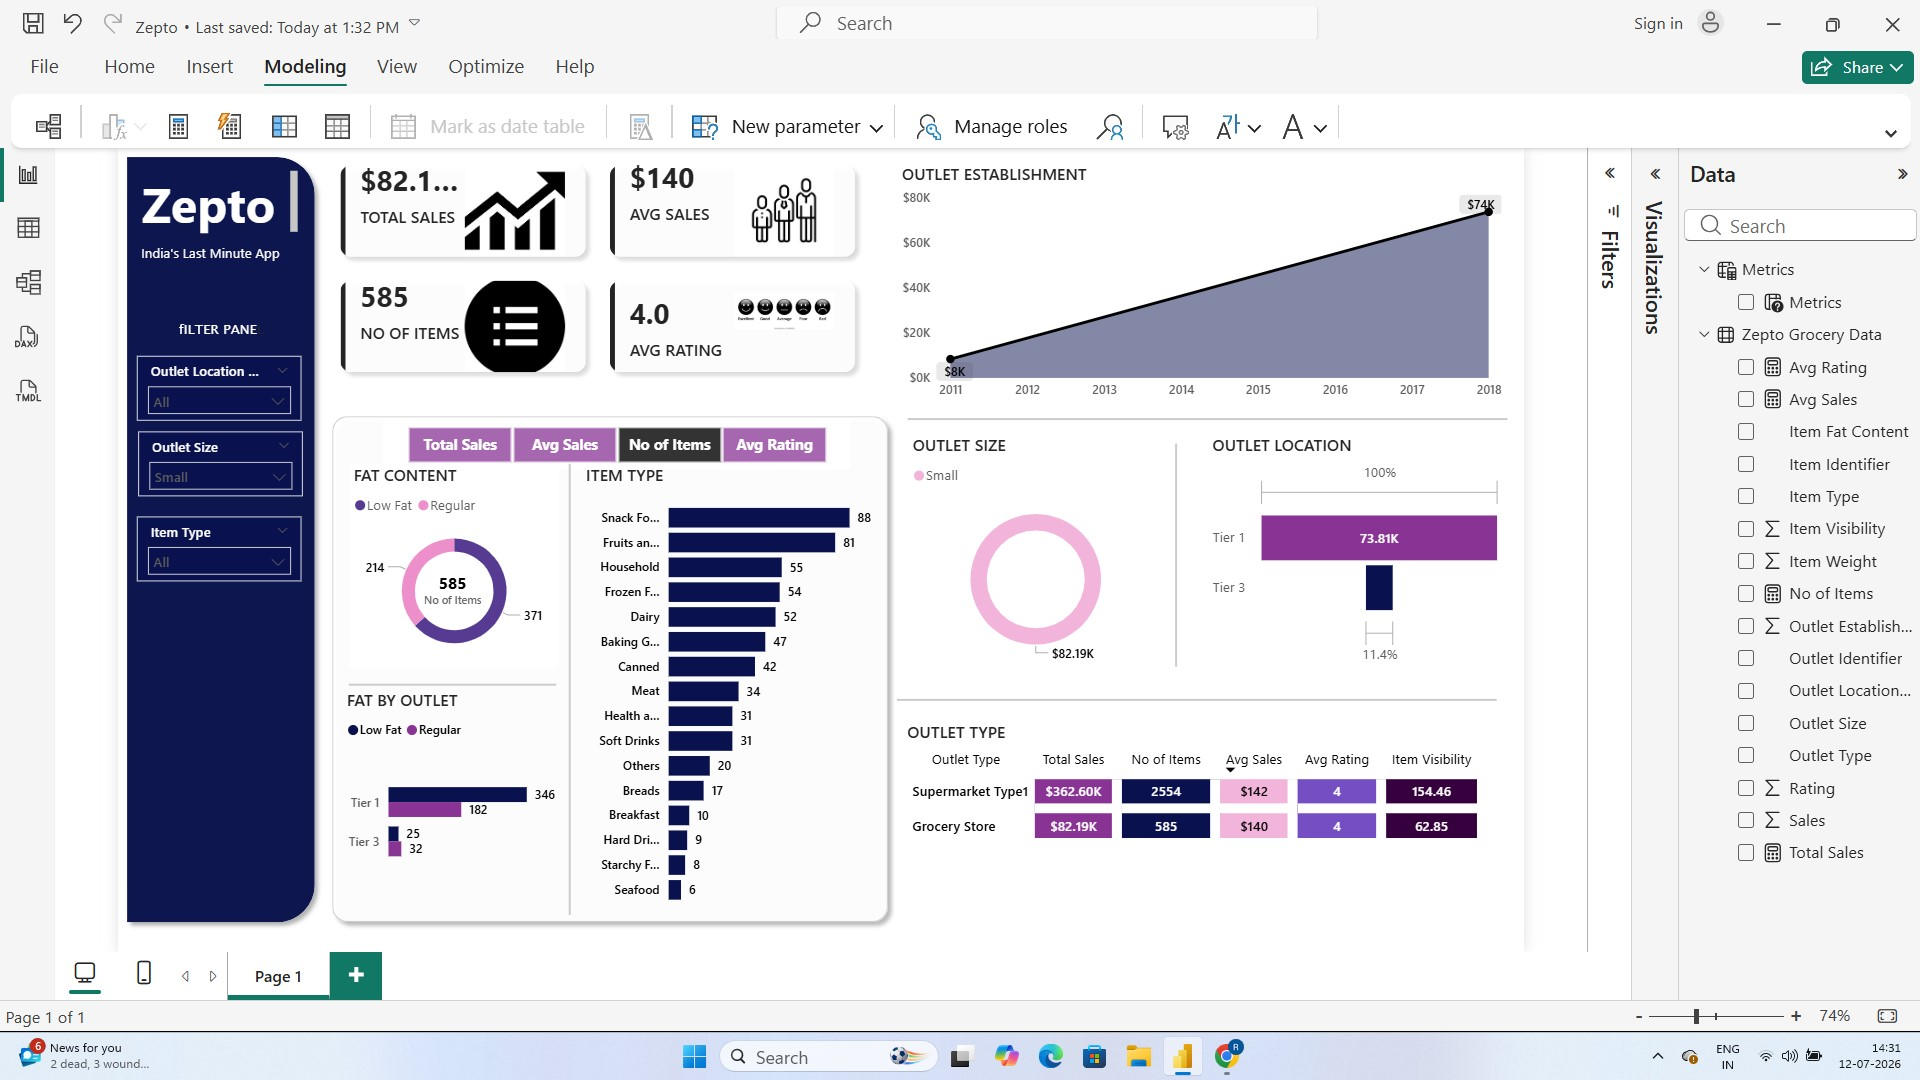

Layout of this report page (visuals, bound fields, positions):
{"tool":"powerbi","page":{"name":"Page 1","canvas":[1400,800],"ordinal":0},"visuals":[{"type":"shape","box":[0,0,204.7,779.5],"z":0},{"type":"textbox","box":[18.9,17.3,165.4,72.4],"z":1000},{"type":"textbox","box":[0,89.8,184.3,34.6],"z":2000},{"type":"cardVisual","fields":{"Data":["Zepto Grocery Data.Total Sales","Zepto Grocery Data.Avg Sales","Zepto Grocery Data.No of Items","Zepto Grocery Data.Avg Rating"]},"box":[204.7,0,546.5,240.9],"z":3000},{"type":"shape","box":[217.3,258.3,557.5,521.3],"z":4000},{"type":"donutChart","title":" FAT CONTENT","fields":{"Y":["Zepto Grocery Data.No of Items"],"Category":["Zepto Grocery Data.Item Fat Content"]},"box":[230.3,314.6,209.2,203.2],"z":5000},{"type":"slicer","fields":{"Values":["Metrics.Metrics"]},"box":[263.4,271,465.2,48.2],"z":6000},{"type":"cardVisual","fields":{"Data":["Zepto Grocery Data.No of Items"]},"box":[274,404.9,118.9,69.2],"z":7000},{"type":"clusteredBarChart","title":"FAT BY OUTLET","fields":{"Y":["Zepto Grocery Data.No of Items"],"Category":["Zepto Grocery Data.Outlet Location Type"],"Series":["Zepto Grocery Data.Item Fat Content"]},"box":[222.8,538.9,216.8,207.7],"z":8000},{"type":"shape","box":[229.9,519.7,206.3,28.3],"z":9000},{"type":"shape","box":[439.4,315,20.5,448.8],"z":10000},{"type":"barChart","title":"ITEM TYPE","fields":{"Y":["Zepto Grocery Data.No of Items"],"Category":["Zepto Grocery Data.Item Type"]},"box":[460.6,314.6,296.6,448.6],"z":11000},{"type":"lineChart","title":"OUTLET ESTABLISHMENT","fields":{"Y":["Zepto Grocery Data.Total Sales"],"Category":["Zepto Grocery Data.Outlet Establishment Year"]},"box":[775.3,15.1,606.7,243.9],"z":12000},{"type":"shape","box":[785.8,258.3,596.9,23.6],"z":13000},{"type":"donutChart","title":"OUTLET SIZE","fields":{"Y":["Zepto Grocery Data.Total Sales"],"Category":["Zepto Grocery Data.Outlet Size"]},"box":[785.8,284.5,254.4,239.4],"z":14000},{"type":"shape","box":[1040.9,294.5,23.6,222],"z":15000},{"type":"funnel","title":"OUTLET LOCATION","fields":{"Y":["Sum(Zepto Grocery Data.Sales)"],"Category":["Zepto Grocery Data.Outlet Location Type"]},"box":[1083.9,284.5,298.1,234.8],"z":16000},{"type":"shape","box":[774.8,537,596.9,23.6],"z":17000},{"type":"pivotTable","title":"OUTLET TYPE","fields":{"Rows":["Zepto Grocery Data.Outlet Type"],"Values":["Zepto Grocery Data.Total Sales","Zepto Grocery Data.No of Items","Zepto Grocery Data.Avg Sales","Zepto Grocery Data.Avg Rating","Sum(Zepto Grocery Data.Item Visibility)"]},"box":[779.9,569.2,602.2,193.5],"z":18000},{"type":"slicer","fields":{"Values":["Zepto Grocery Data.Outlet Location Type"]},"box":[18.9,206.3,163.8,64.6],"z":19000},{"type":"slicer","fields":{"Values":["Zepto Grocery Data.Outlet Size"]},"box":[20.5,281.9,163.8,64.6],"z":20000},{"type":"slicer","fields":{"Values":["Zepto Grocery Data.Item Type"]},"box":[18.9,366.9,163.8,64.6],"z":21000},{"type":"textbox","box":[50.4,165.4,103.9,40.9],"z":22000}]}

Visuals, with their boxes on the page's 1400x800 design canvas (x1, y1, x2, y2). These are canvas units, not pixel positions in the 1920x1080 screenshot, which may show the page scaled, cropped or inside an application window:
shape: pyautogui.locateOnScreen(0, 0, 205, 780)
textbox: pyautogui.locateOnScreen(19, 17, 184, 90)
textbox: pyautogui.locateOnScreen(0, 90, 184, 124)
cardVisual - Zepto Grocery Data.Total Sales x Zepto Grocery Data.Avg Sales: pyautogui.locateOnScreen(205, 0, 751, 241)
shape: pyautogui.locateOnScreen(217, 258, 775, 780)
" FAT CONTENT" donutChart: pyautogui.locateOnScreen(230, 315, 440, 518)
slicer - Metrics.Metrics: pyautogui.locateOnScreen(263, 271, 729, 319)
cardVisual - Zepto Grocery Data.No of Items: pyautogui.locateOnScreen(274, 405, 393, 474)
"FAT BY OUTLET" clusteredBarChart: pyautogui.locateOnScreen(223, 539, 440, 747)
shape: pyautogui.locateOnScreen(230, 520, 436, 548)
shape: pyautogui.locateOnScreen(439, 315, 460, 764)
"ITEM TYPE" barChart: pyautogui.locateOnScreen(461, 315, 757, 763)
"OUTLET ESTABLISHMENT" lineChart: pyautogui.locateOnScreen(775, 15, 1382, 259)
shape: pyautogui.locateOnScreen(786, 258, 1383, 282)
"OUTLET SIZE" donutChart: pyautogui.locateOnScreen(786, 284, 1040, 524)
shape: pyautogui.locateOnScreen(1041, 294, 1064, 516)
"OUTLET LOCATION" funnel: pyautogui.locateOnScreen(1084, 284, 1382, 519)
shape: pyautogui.locateOnScreen(775, 537, 1372, 561)
"OUTLET TYPE" pivotTable: pyautogui.locateOnScreen(780, 569, 1382, 763)
slicer - Zepto Grocery Data.Outlet Location Type: pyautogui.locateOnScreen(19, 206, 183, 271)
slicer - Zepto Grocery Data.Outlet Size: pyautogui.locateOnScreen(20, 282, 184, 346)
slicer - Zepto Grocery Data.Item Type: pyautogui.locateOnScreen(19, 367, 183, 432)
textbox: pyautogui.locateOnScreen(50, 165, 154, 206)
